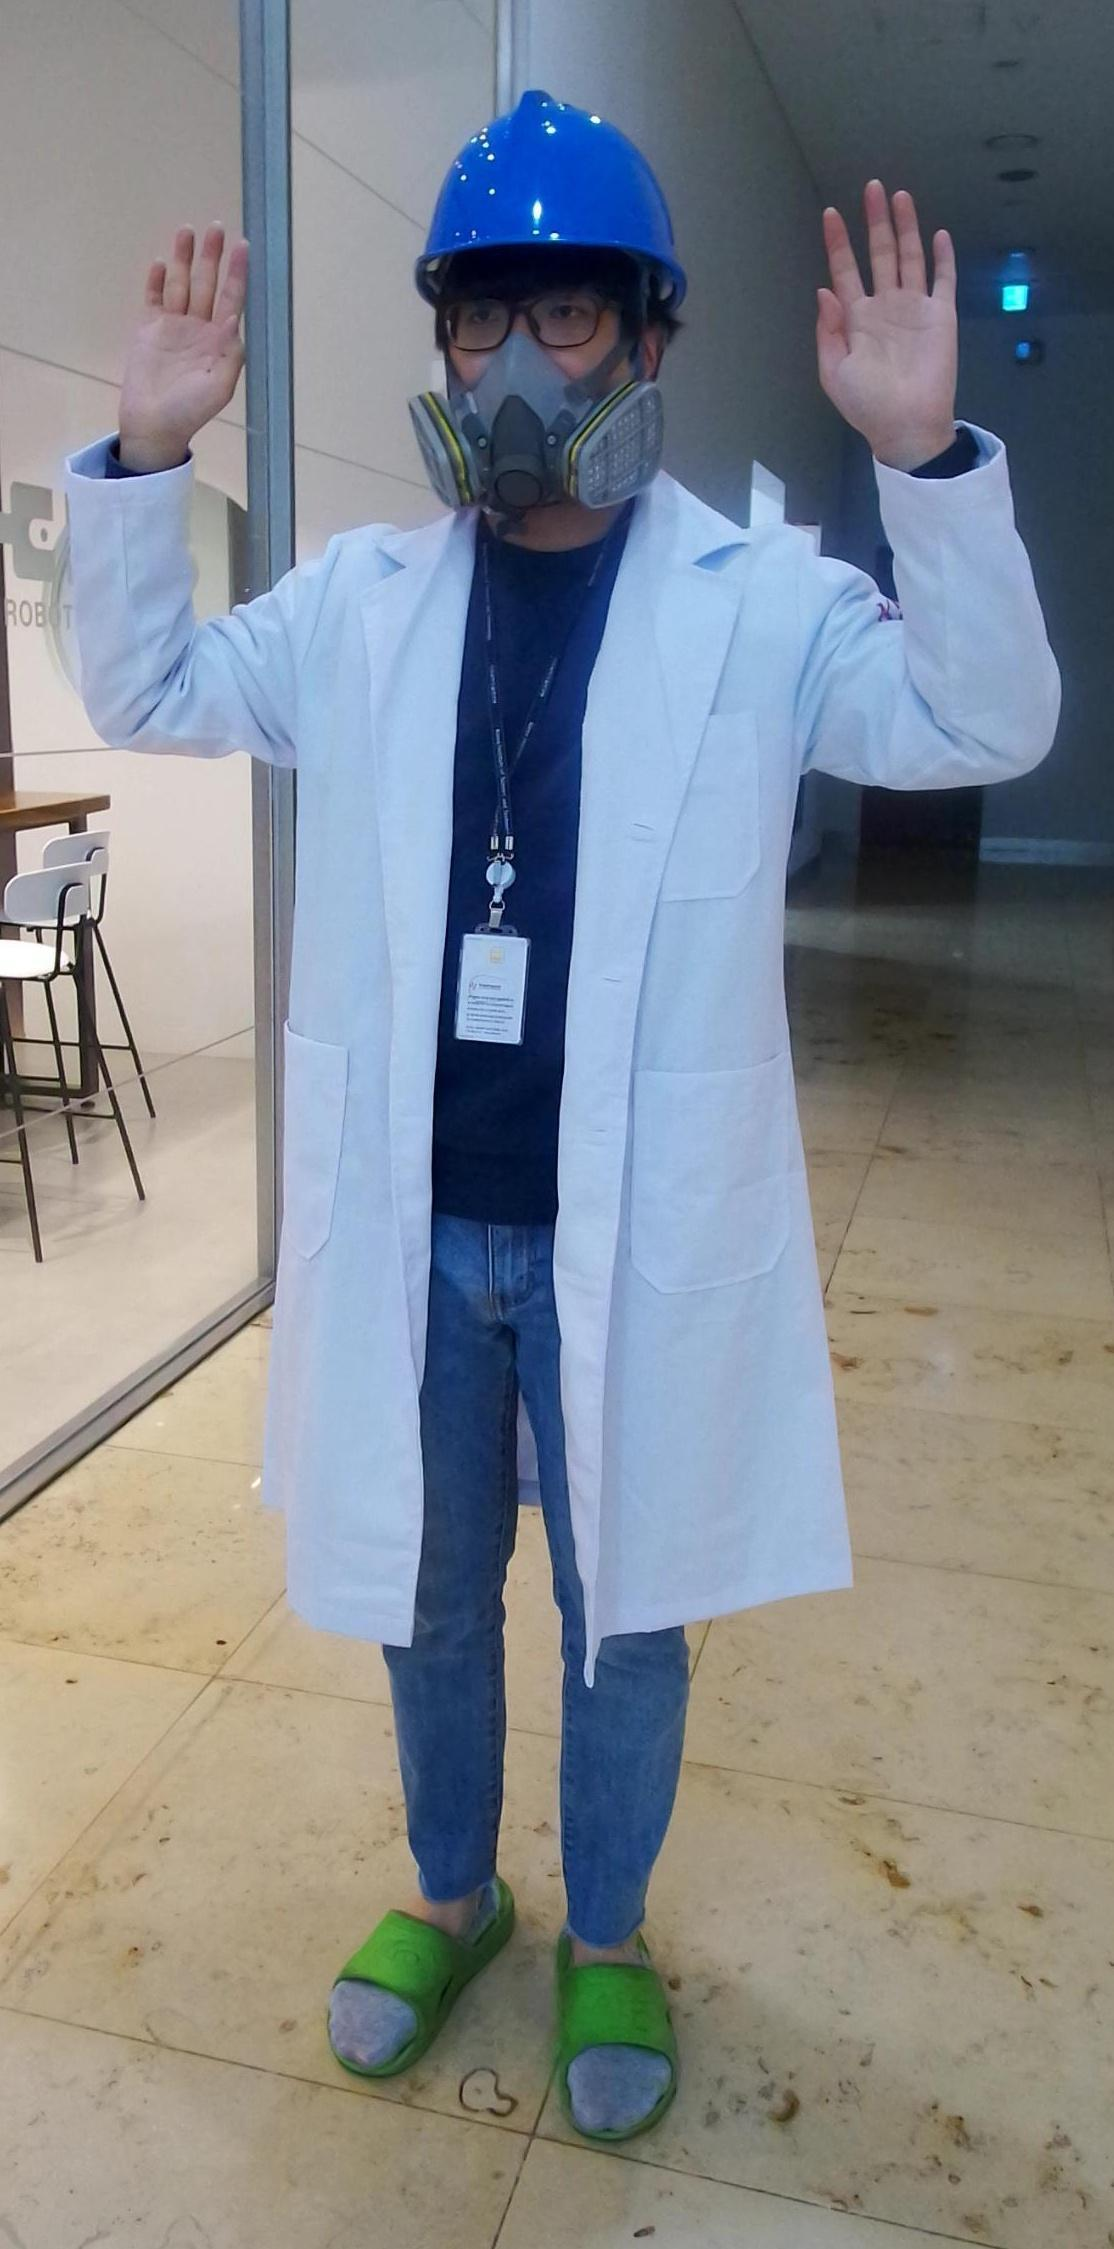lab_coat: (77, 486, 1017, 1621)
